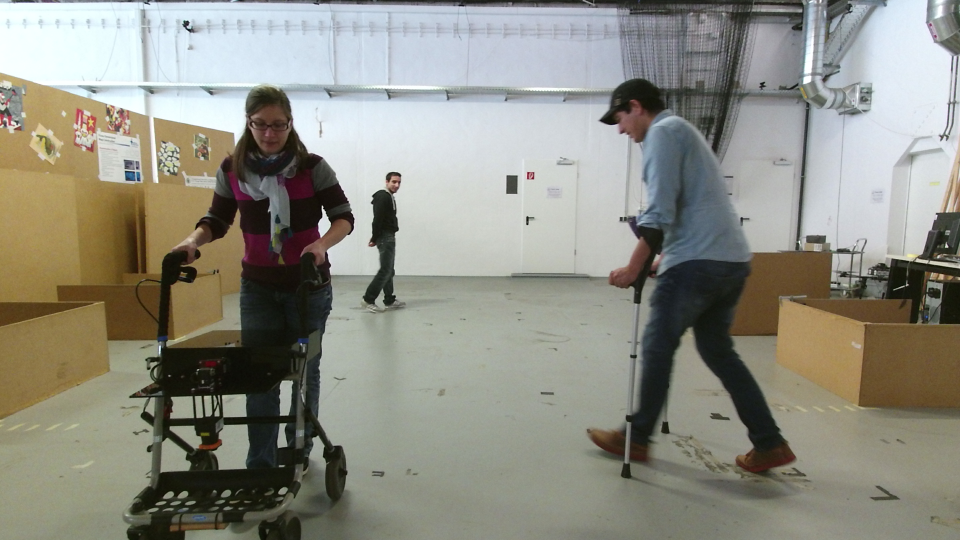crutches: (575, 69, 802, 489)
